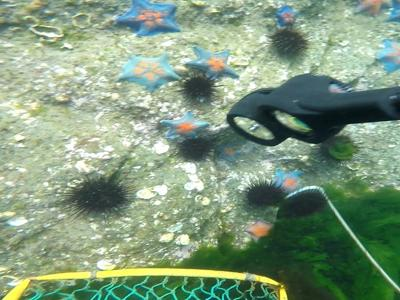urchin: (73, 175, 129, 216), (285, 193, 324, 220), (270, 30, 302, 61), (245, 183, 281, 205), (183, 75, 213, 101), (178, 142, 210, 157)
